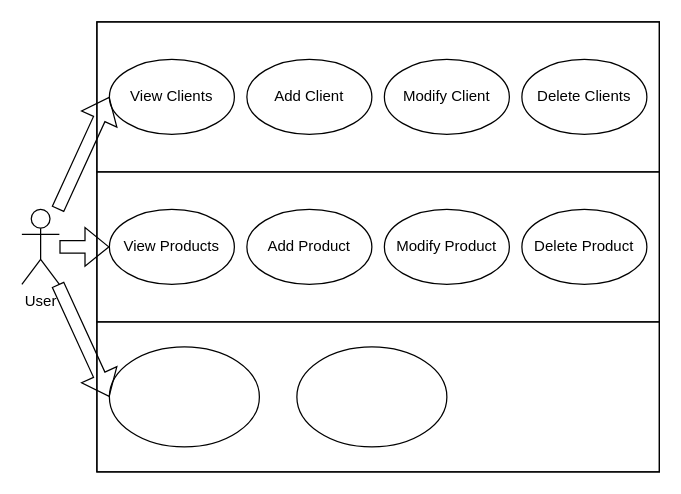
The diagram is 681 pixels wide and 494 high, and some of its shapes have lost their labels. Each missing label, with the centre of its shape:
Add Order: (371,396)
View Orders: (183,396)
